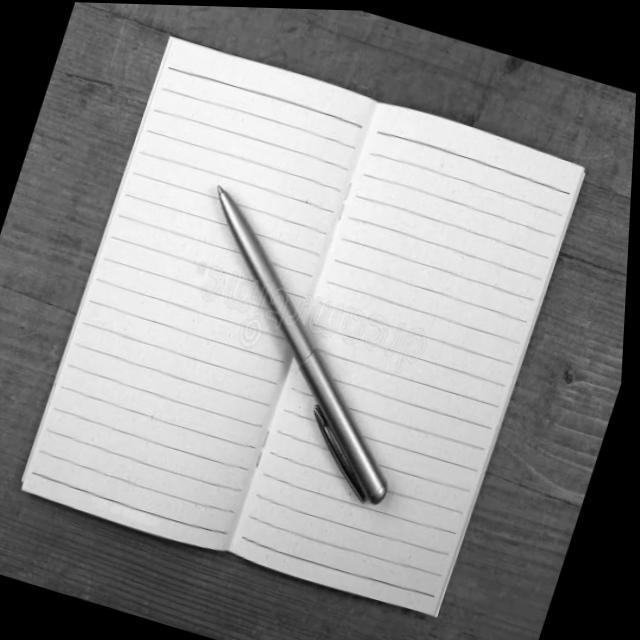pencil: (201, 168, 405, 517)
